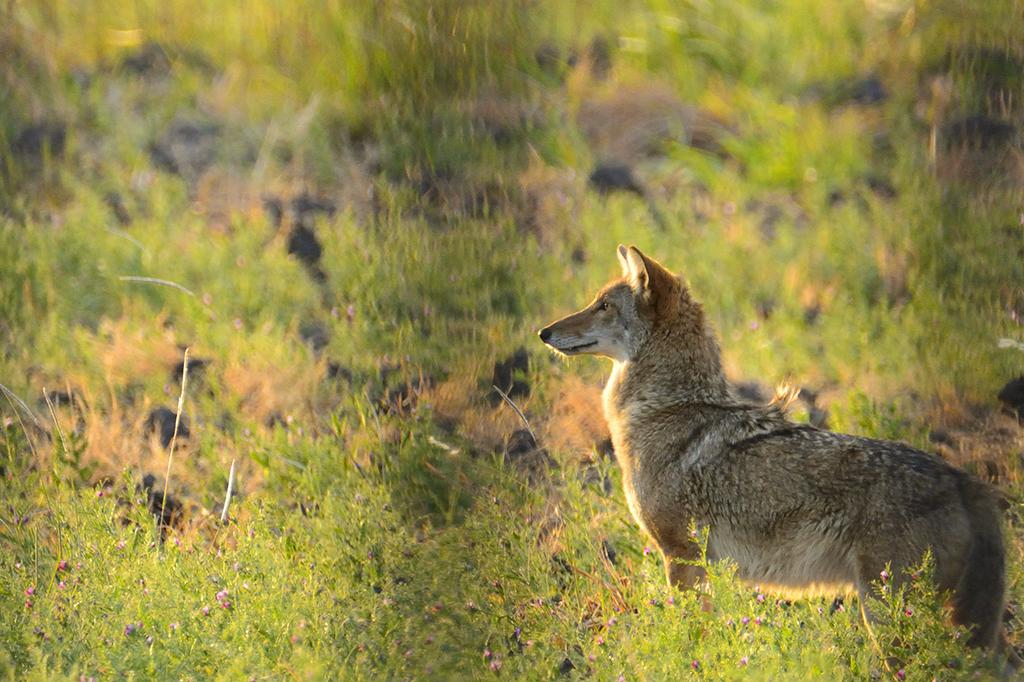Coyote: (537, 239, 1024, 673)
